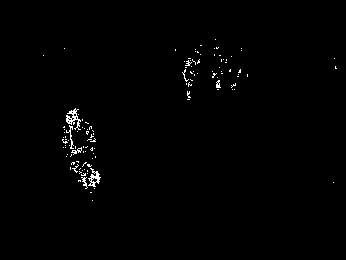person: (61, 106, 103, 190), (184, 54, 202, 100)
